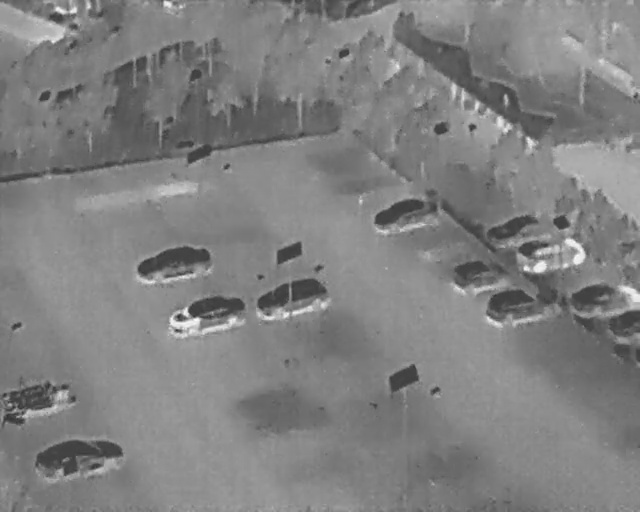Car: (609, 310, 640, 338)
